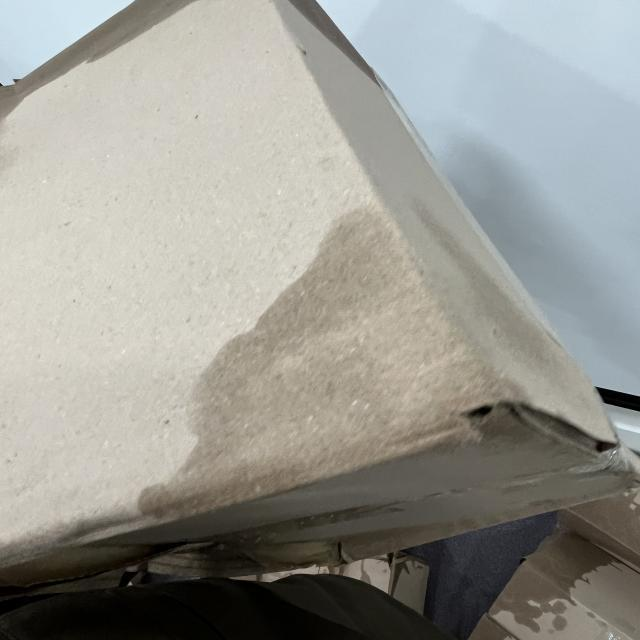wet: (178, 204, 547, 520)
